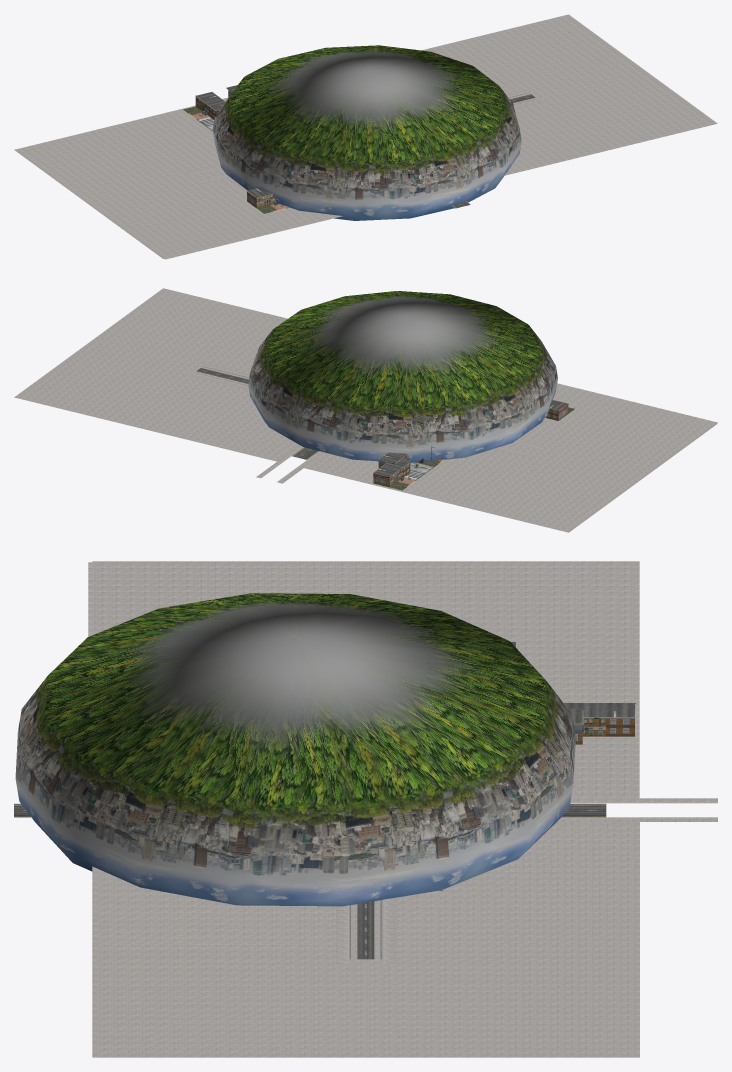
The model's file is Rooftop.glb.
3 renders of one model, top to bottom at view 1: azimuth 30°, elevation 25°; view 2: azimuth 150°, elevation 25°; view 3: azimuth 270°, elevation 25°, orthographic. The views are drawn at different scales.
Visible parts, largest first — view 1: Rooftop; view 2: Rooftop; view 3: Rooftop.
Part boxes in pixels (<box>): Rooftop: <box>14,14,717,259</box>; Rooftop: <box>14,288,717,532</box>; Rooftop: <box>14,561,717,1057</box>.
Bounding box in the file's own units: 2182 × 339 × 1307.
17 materials, 17 textured.
